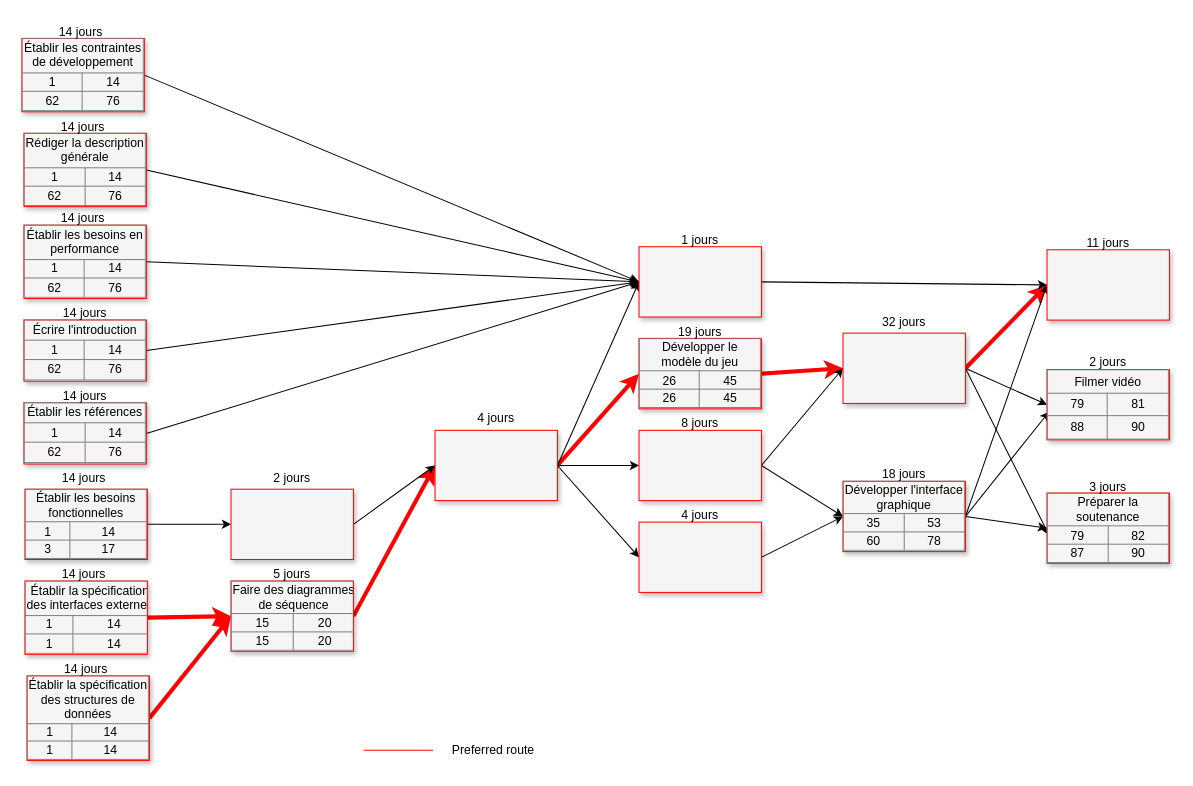
Some shapes in this 1193 by 786 pixel diagram are drawn without their labels. The centre of each missing label's shape, as x and y in pixels:
Compiler le cahier des charges 26 27 77 78: point (701, 283)
Développer l'API 26 34 37 45: point (701, 466)
Développer l'IA 46 78 46 78: point (905, 369)
Développer la communication API 26 30 56 60: point (701, 558)
Faire un diagramme d'activité 15 17 18 20: point (293, 525)
Faire un diagramme de classes 21 25 21 25: point (497, 466)
Écrire le rapport 79 90 79 90: point (1109, 286)
